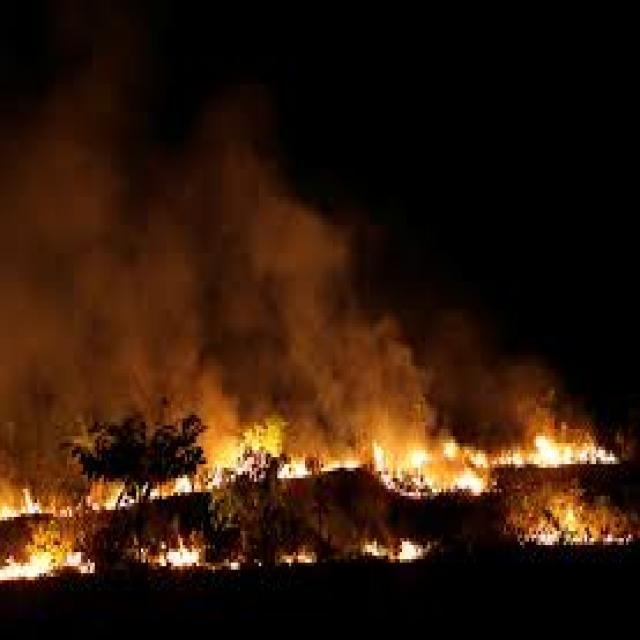Fire: (0, 446, 640, 580)
Smoke: (0, 144, 354, 419), (362, 319, 536, 428)
